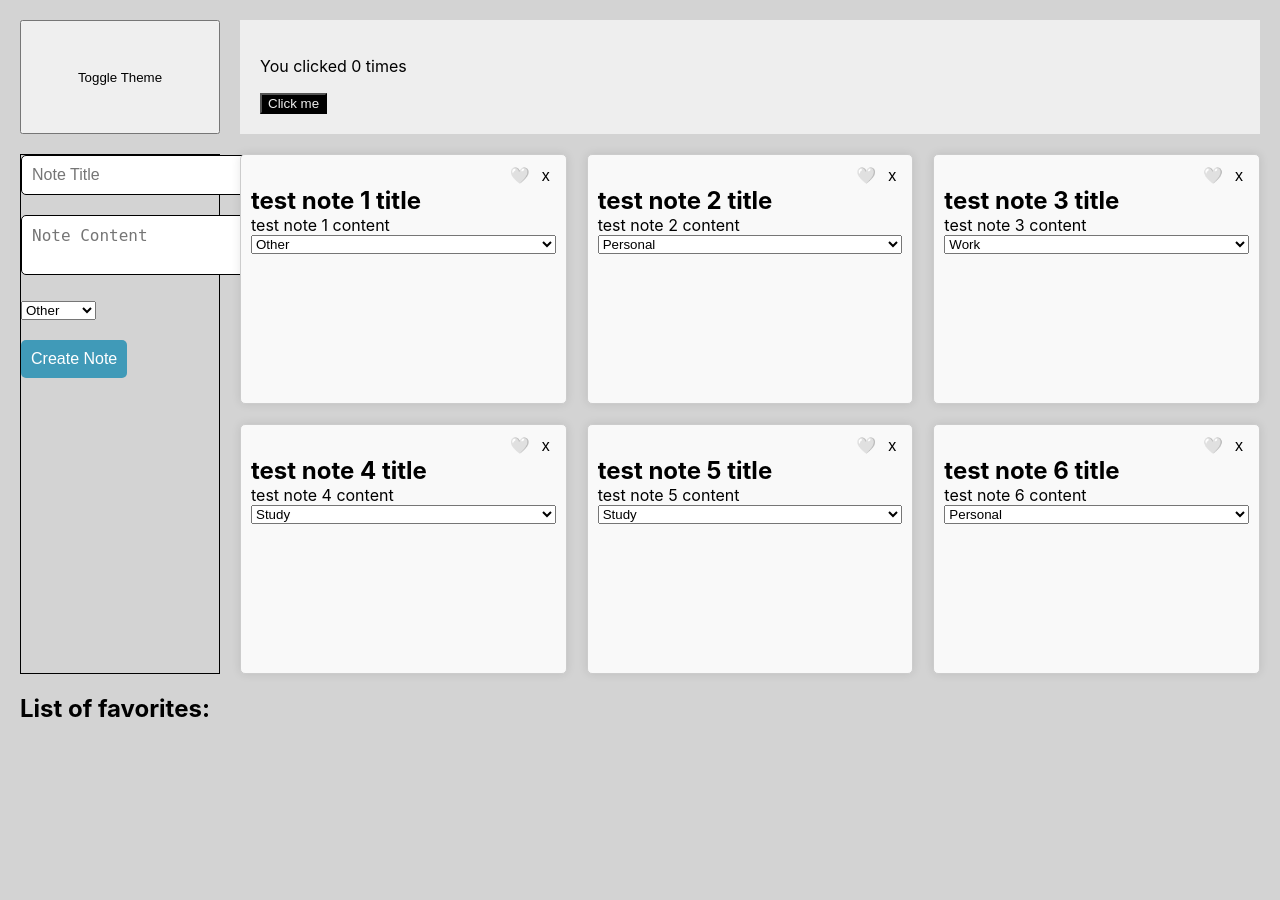
Scenario: Update and Delete Notes › updates a note
Type "New Note" into the field with placeholder "Note Title" at point(136, 175), box [21,155,250,195]
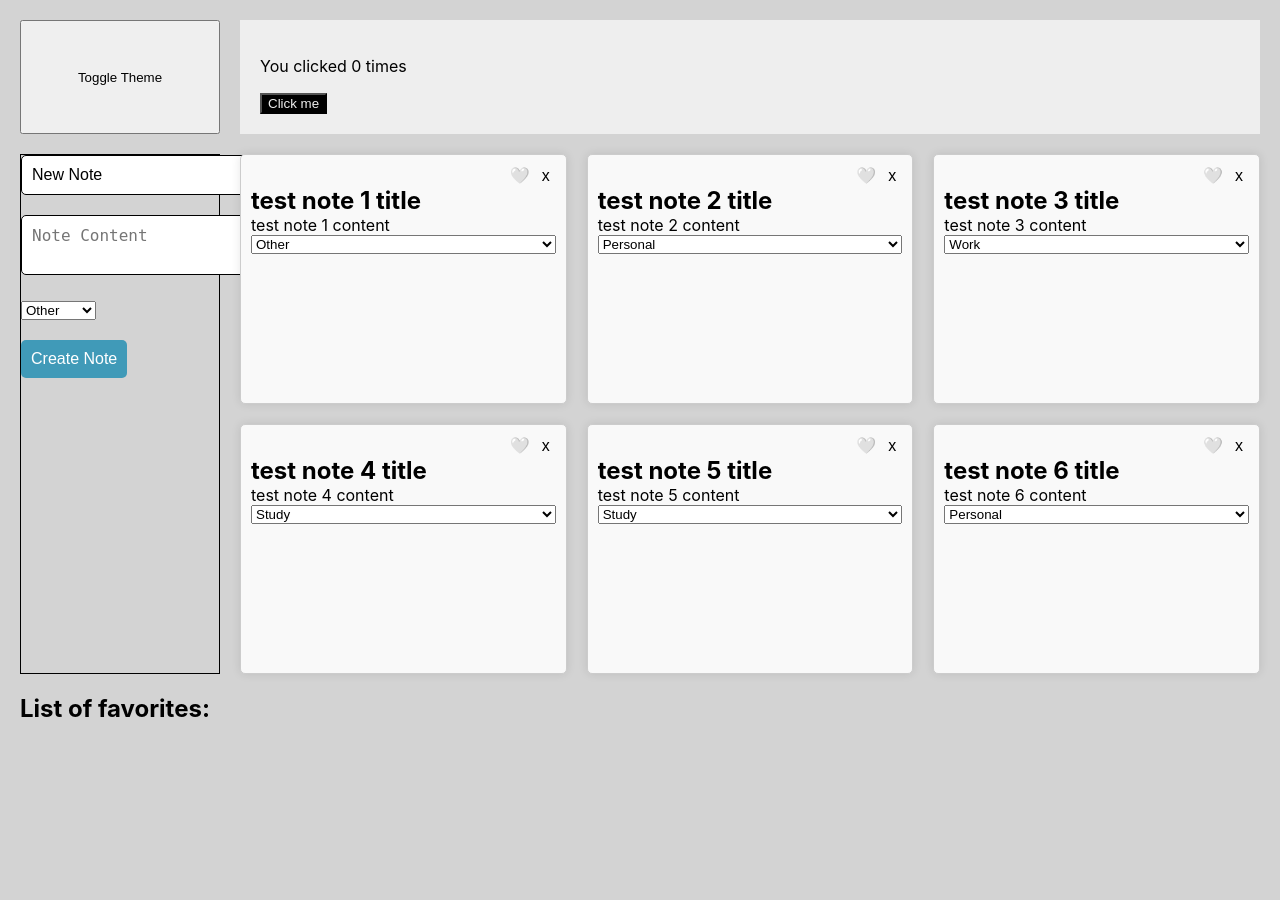
Type "Note content" into the text box with placeholder "Note Content" at point(140, 245), box [21,215,258,275]
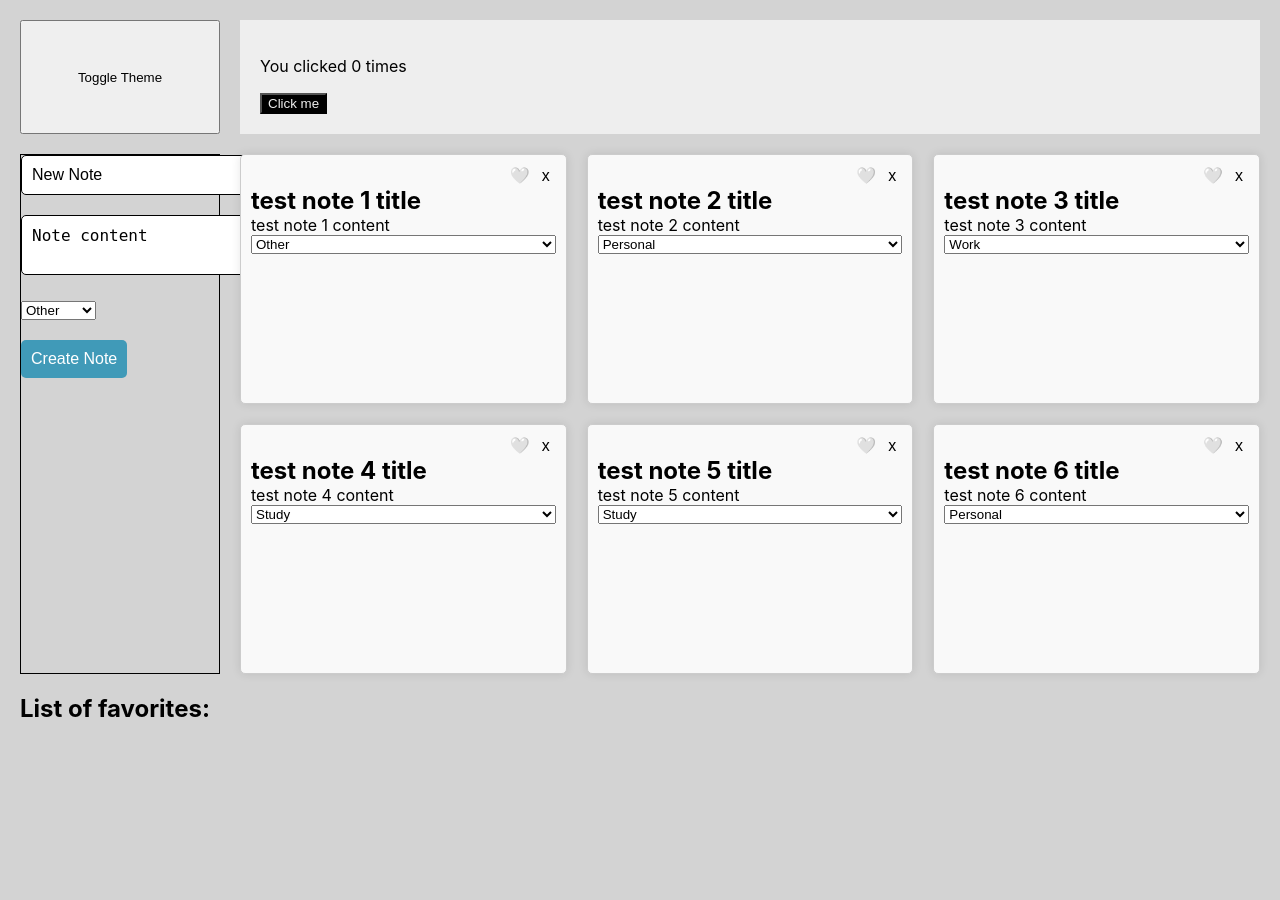
Click the button "Create Note" at point(74, 359), box [21,340,127,378]
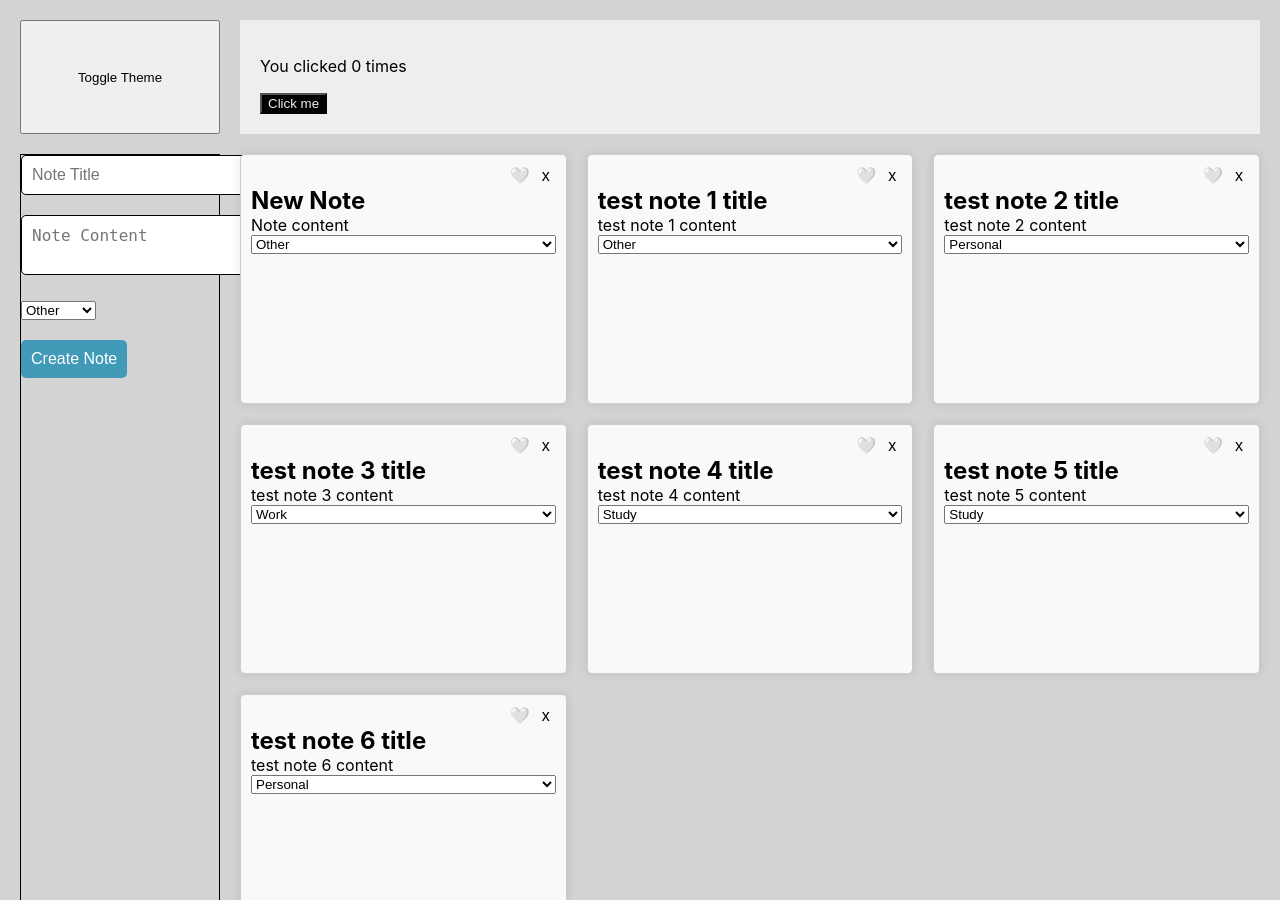
Leave the heading "New Note", box [251,186,365,215]
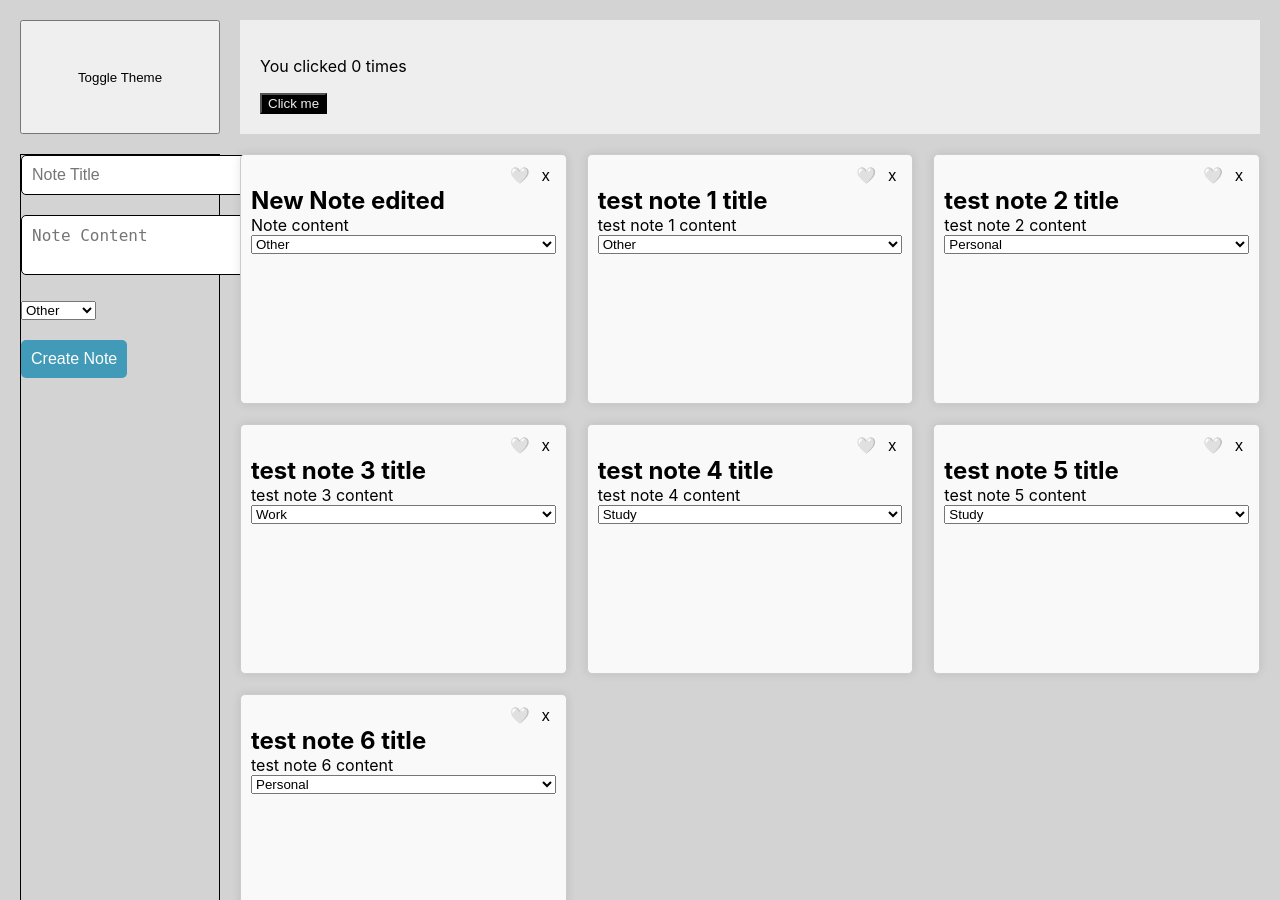
Leave the text box "Note content", box [251,215,349,235]
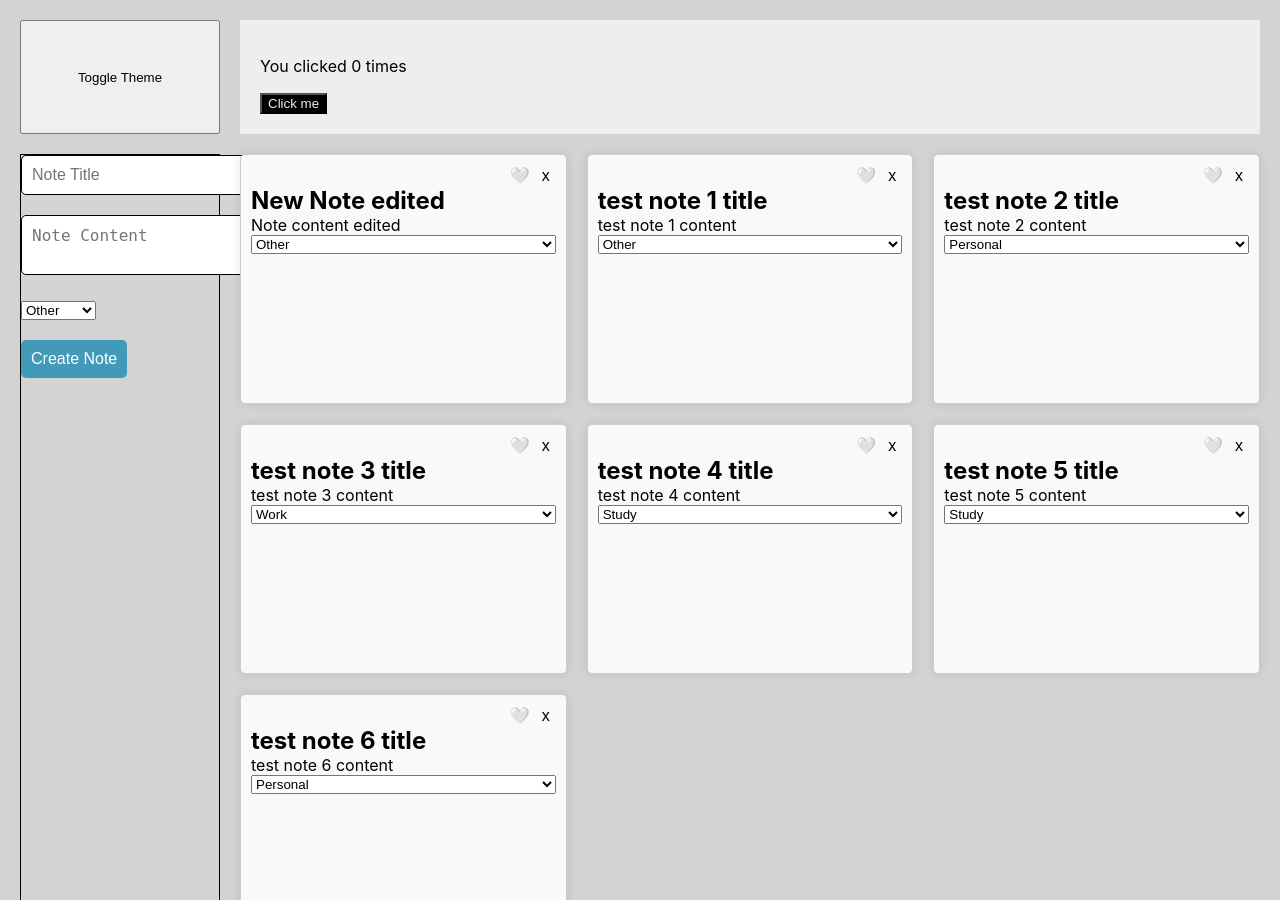
Now the heading "New Note edited" is shown, box [251,186,445,215]
Now the text box "Note content edited" is shown, box [251,215,400,235]
